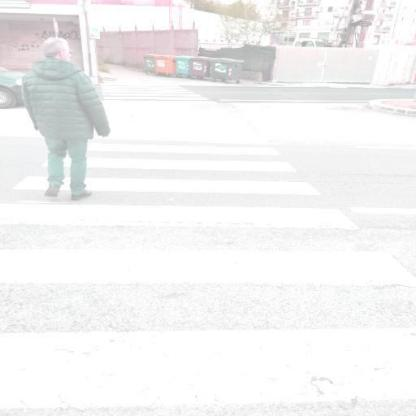crosswalk: (1, 246, 415, 416), (9, 156, 324, 197), (94, 116, 261, 136)
